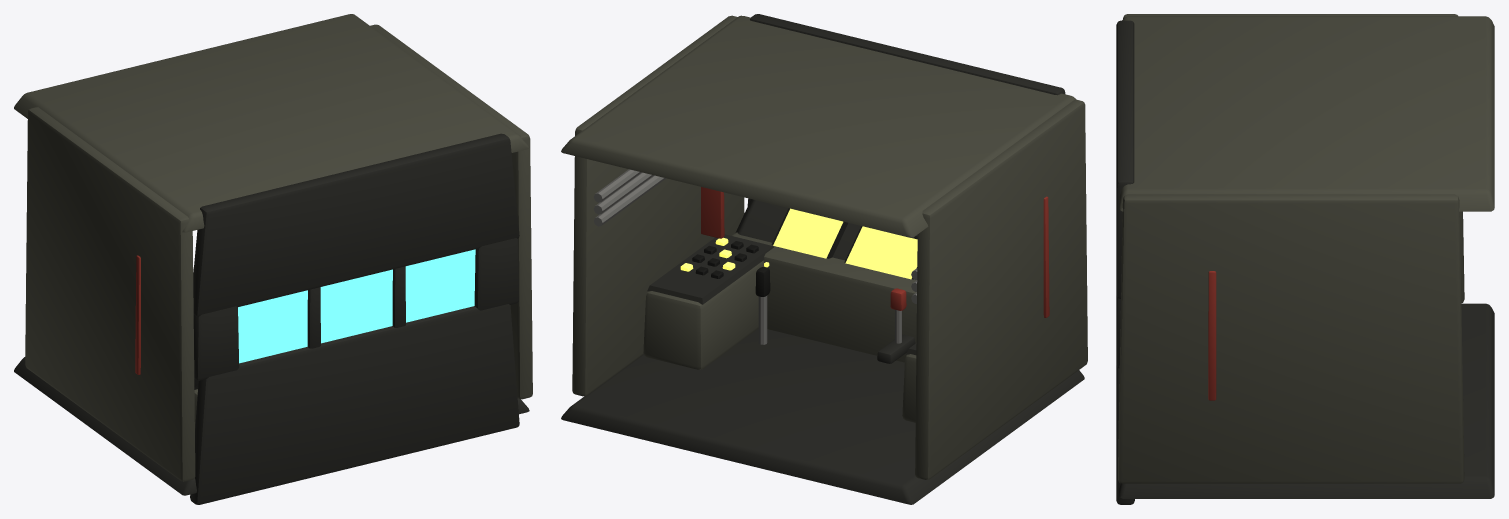
The model's file is cockpit_A.glb.
3 renders of one model, left to right at view 1: azimuth 30°, elevation 25°; view 2: azimuth 150°, elevation 25°; view 3: azimuth 270°, elevation 25°, orthographic. The views are drawn at different scales.
Parts seen in each view (by area): view 1: cockpit_mesh; view 2: cockpit_mesh, SCREEN_C, SCREEN_L; view 3: cockpit_mesh.
Boxes of the visible parts, left/top/right/bottom form: cockpit_mesh: left=14, top=14, right=532, bottom=504; cockpit_mesh: left=561, top=14, right=1087, bottom=504; SCREEN_C: left=845, top=226, right=917, bottom=279; SCREEN_L: left=773, top=208, right=843, bottom=258; cockpit_mesh: left=1116, top=14, right=1494, bottom=504.
Size of the model in its own units: 2.86 by 2.24 by 2.4.
